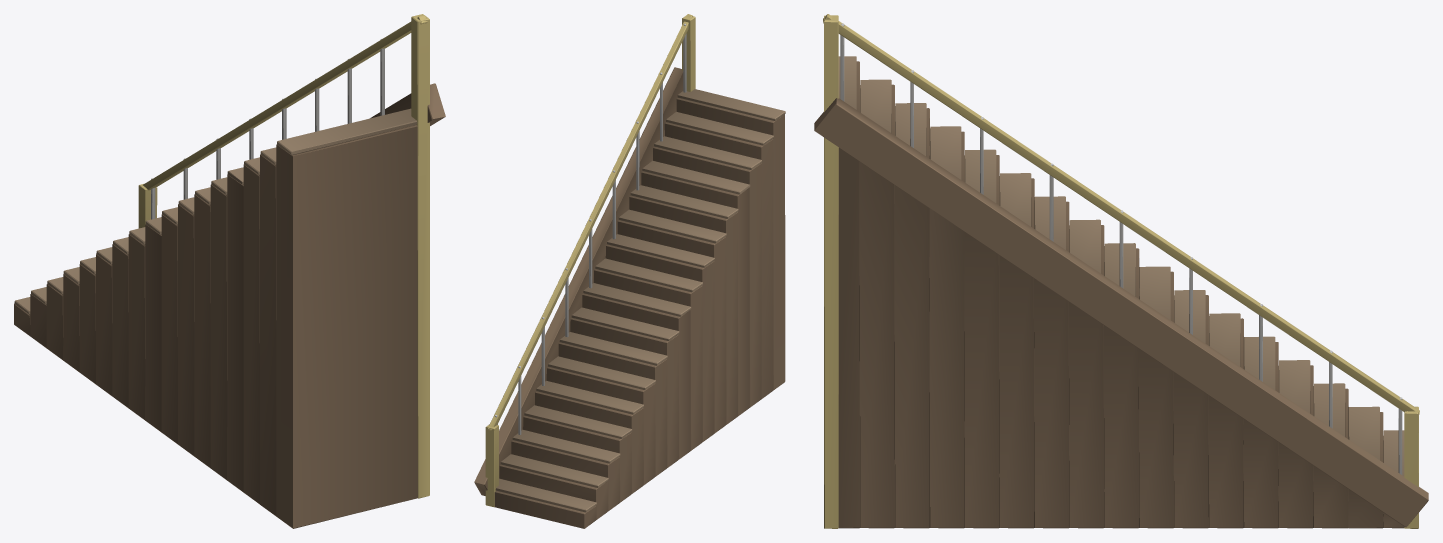
Rendered from home_stairs_in__walnut_low.glb.
The picture shows the model from 3 angles, left to right: view 1: azimuth 30°, elevation 25°; view 2: azimuth 150°, elevation 25°; view 3: azimuth 270°, elevation 25°; orthographic projection. The views are drawn at different scales.
Bounding box in the file's own units: 1.43 × 4.37 × 4.77.
